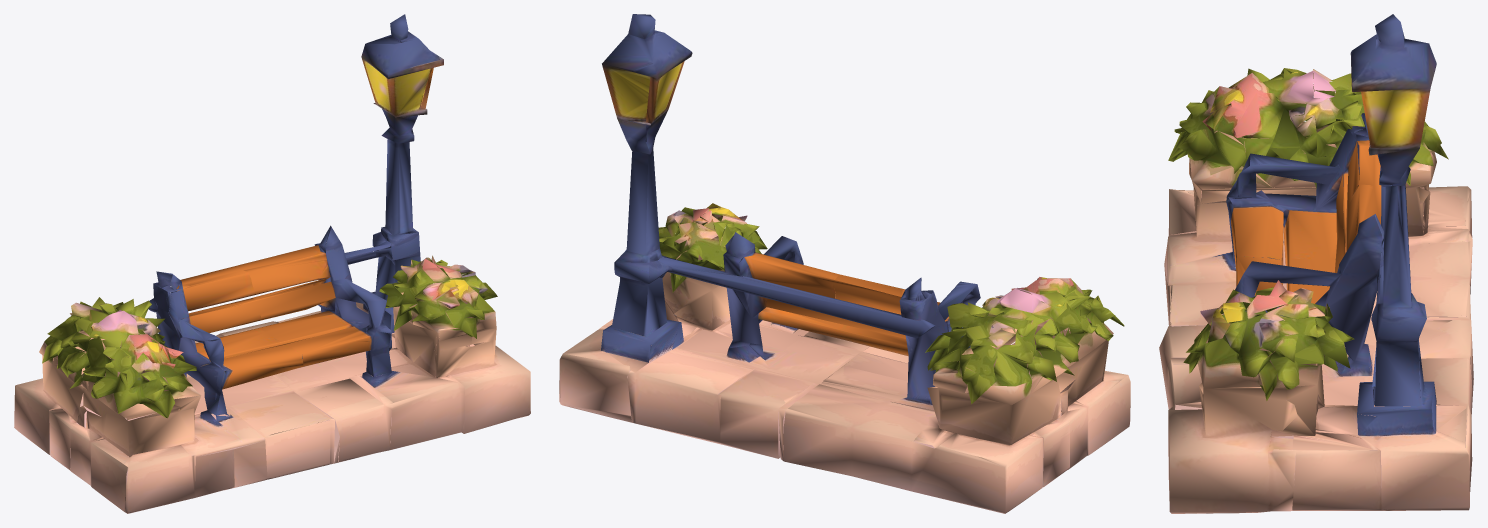
The model's file is M-13_07_bench_lamp.glb.
The picture shows the model from 3 angles, left to right: view 1: azimuth 30°, elevation 25°; view 2: azimuth 150°, elevation 25°; view 3: azimuth 270°, elevation 25°; orthographic projection. The views are drawn at different scales.
Parts seen in each view (by area): view 1: bench_lamp; view 2: bench_lamp; view 3: bench_lamp.
Boxes of the visible parts, left/top/right/bottom form: bench_lamp: left=14, top=14, right=530, bottom=513; bench_lamp: left=559, top=14, right=1130, bottom=513; bench_lamp: left=1159, top=14, right=1473, bottom=513.
Size of the model in its own units: 4.05 by 3.25 by 1.96.
Materials: 1 (1 with a texture image).
